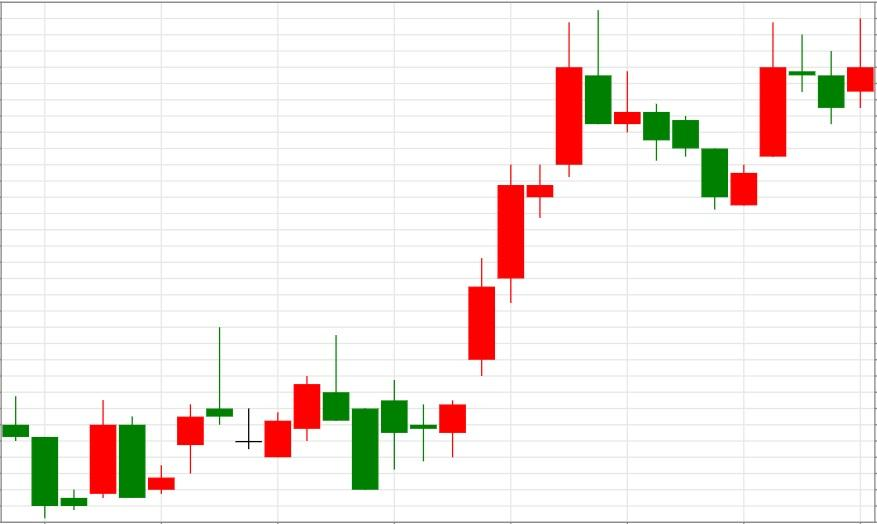three_white_soldiers_rise: (292, 165, 525, 489)
